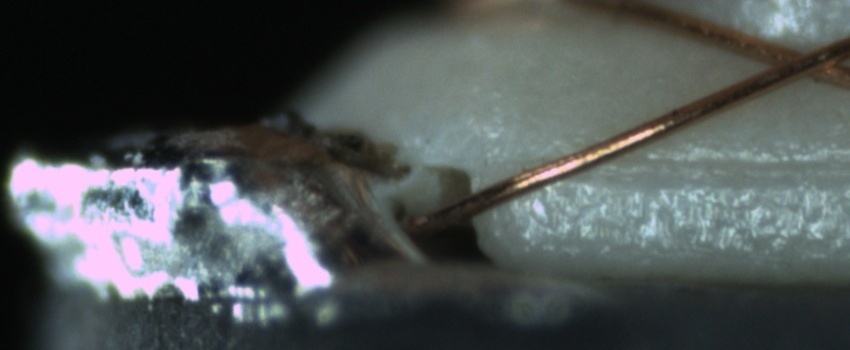CL: (752, 33, 842, 87)
DL: (563, 134, 845, 200)
